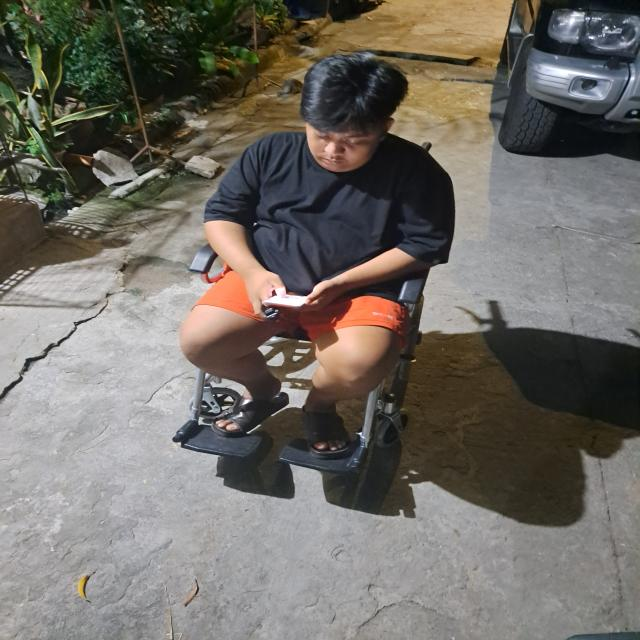wheelchairs: (185, 223, 427, 482)
